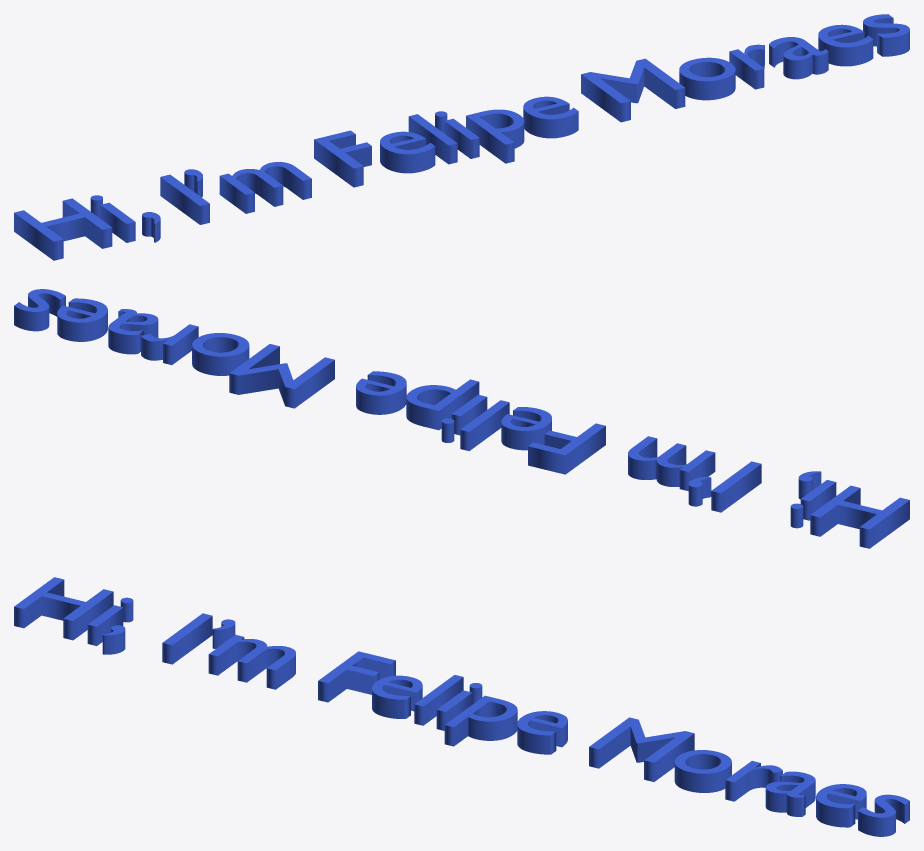
File: frase.glb
The picture shows the model from 3 angles, top to bottom: view 1: azimuth 30°, elevation 25°; view 2: azimuth 150°, elevation 25°; view 3: azimuth 330°, elevation 25°; orthographic projection.
Visible parts, largest first — view 1: Text; view 2: Text; view 3: Text.
Part boxes in pixels (x1,y1,x2,y2): Text: (14, 14, 909, 260); Text: (14, 289, 909, 548); Text: (14, 577, 909, 836).
Bounding box in the file's own units: 8.51 × 0.18 × 0.921.
